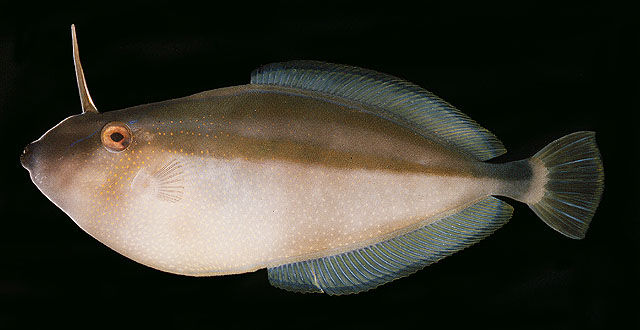fish: (20, 25, 606, 298)
